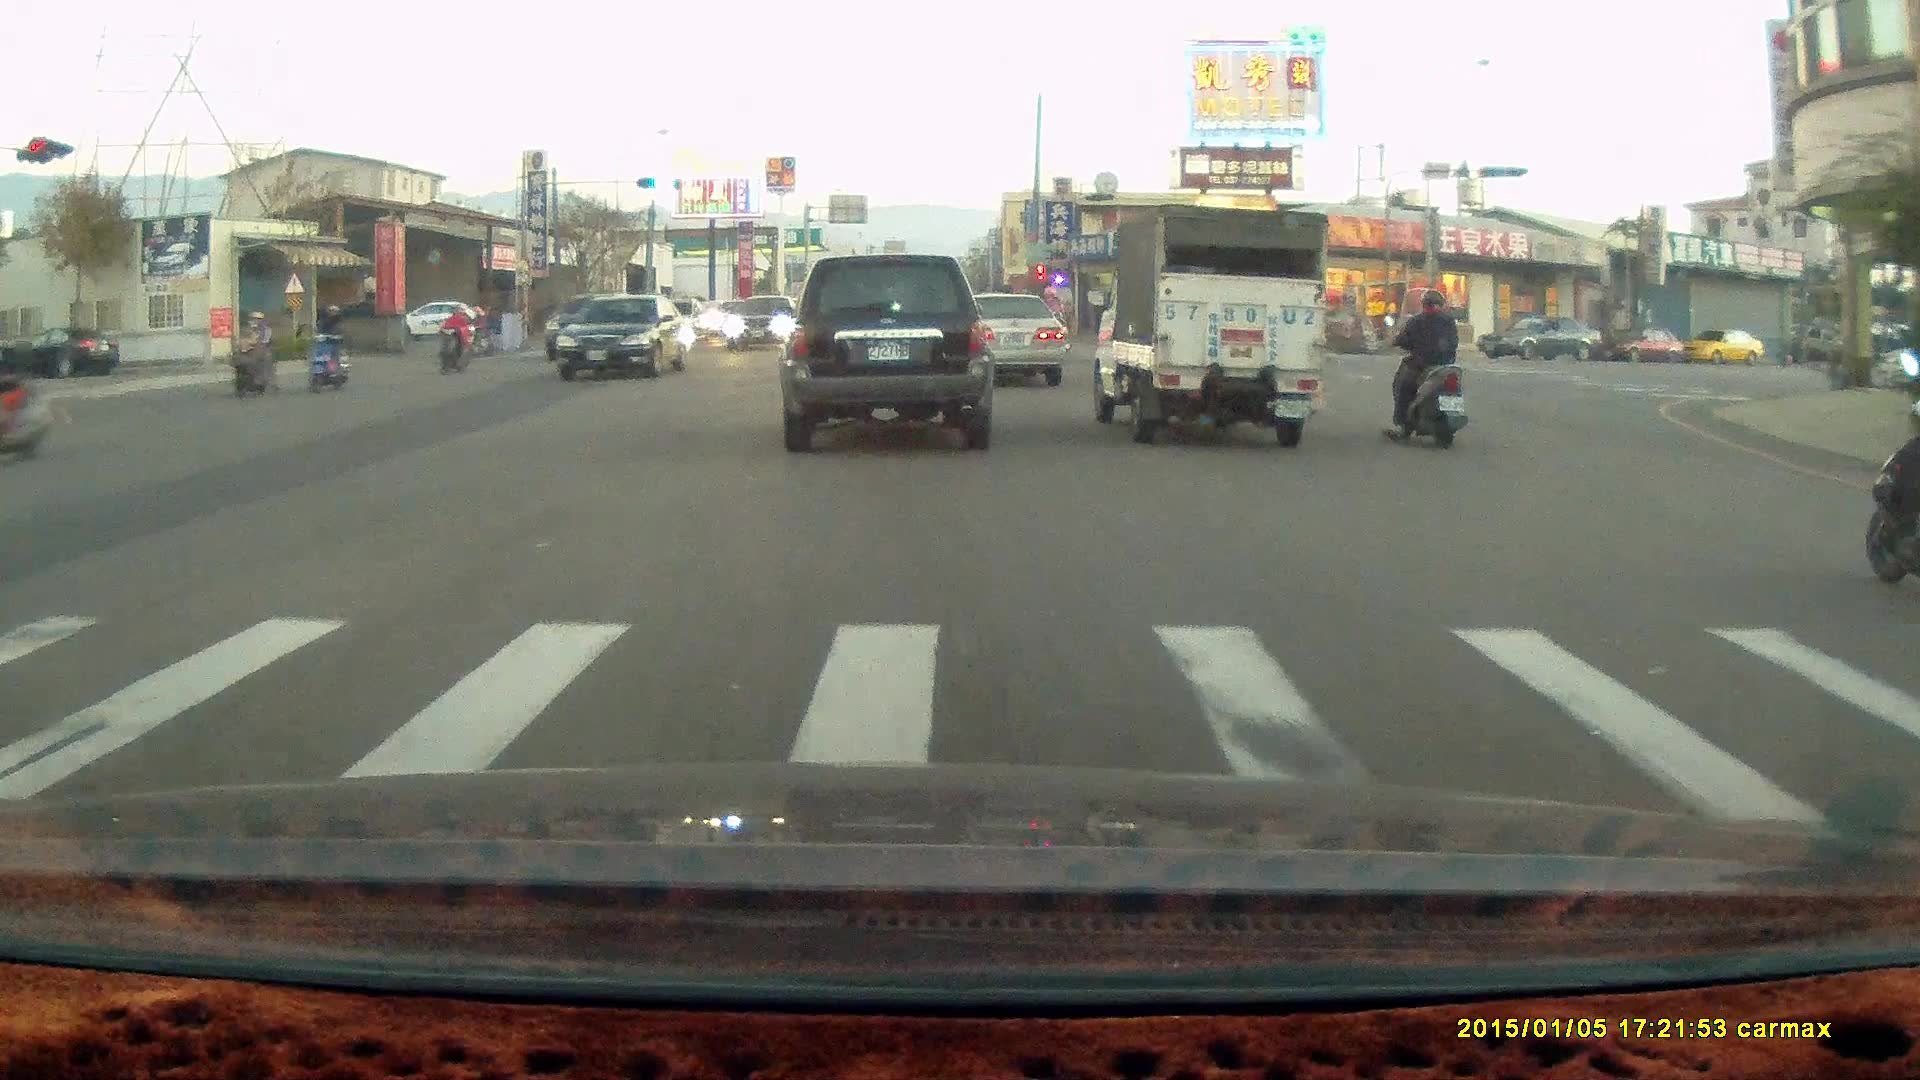rider: (1860, 362, 1920, 586), (1382, 288, 1466, 446), (0, 353, 55, 466), (222, 308, 278, 401), (303, 302, 350, 392), (437, 303, 472, 374)
vehicle: (1083, 206, 1330, 449), (776, 252, 994, 454), (555, 297, 696, 384), (947, 290, 1068, 388), (954, 291, 1070, 389), (1475, 311, 1605, 362), (724, 294, 801, 353), (407, 301, 489, 346), (1681, 327, 1768, 365), (1607, 327, 1687, 363)
